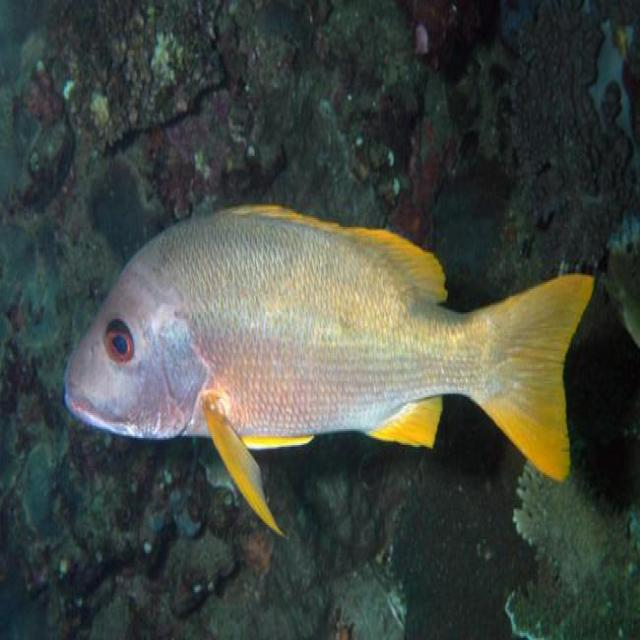ikan: (61, 197, 596, 537)
